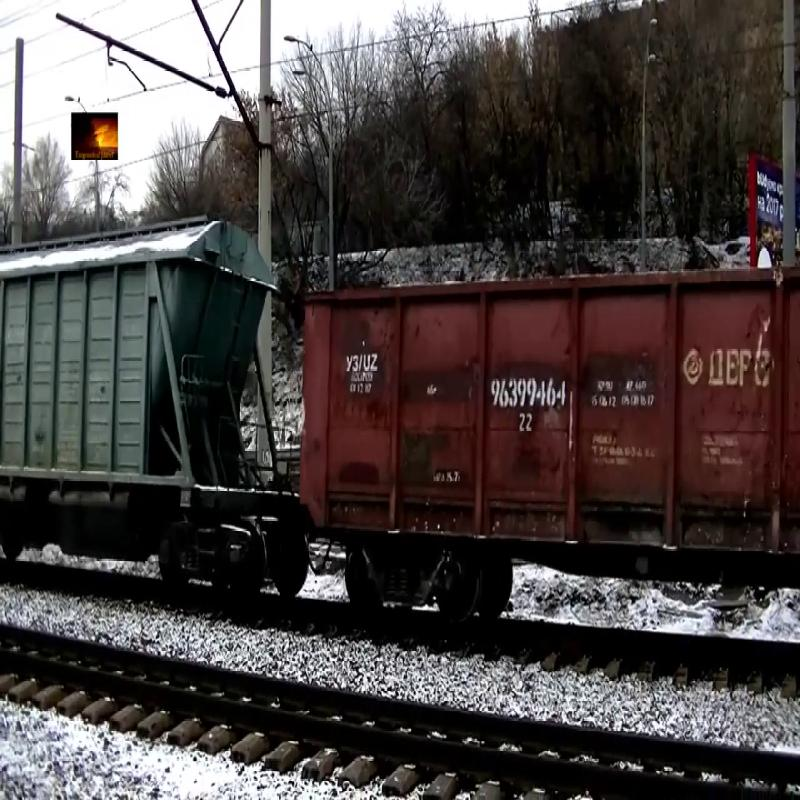train: (292, 266, 800, 574), (1, 215, 276, 537)
